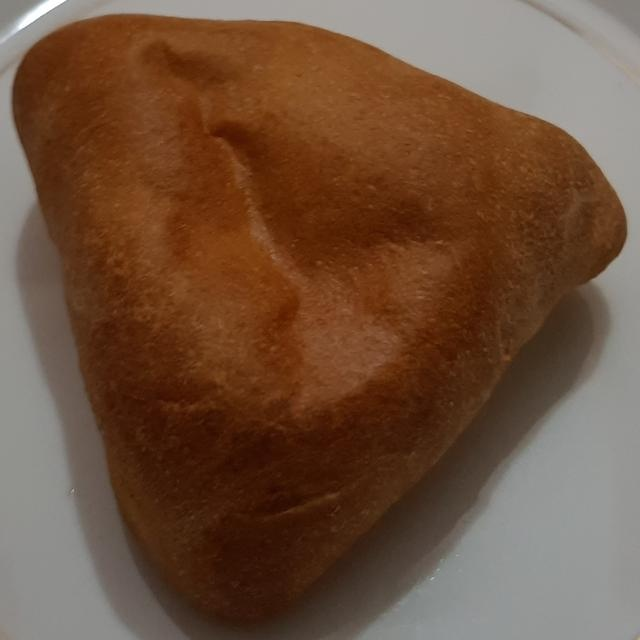Chicken Bun: (10, 12, 629, 623)
